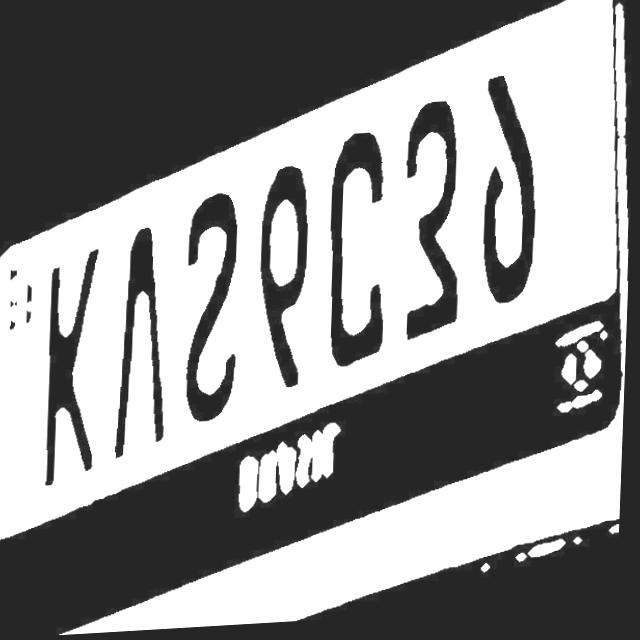3: (393, 96, 472, 357)
6: (251, 161, 316, 406)
9: (475, 69, 546, 315)
c: (324, 131, 397, 375)
k: (40, 244, 115, 496)
s: (179, 192, 254, 433)
v: (111, 226, 177, 461)
